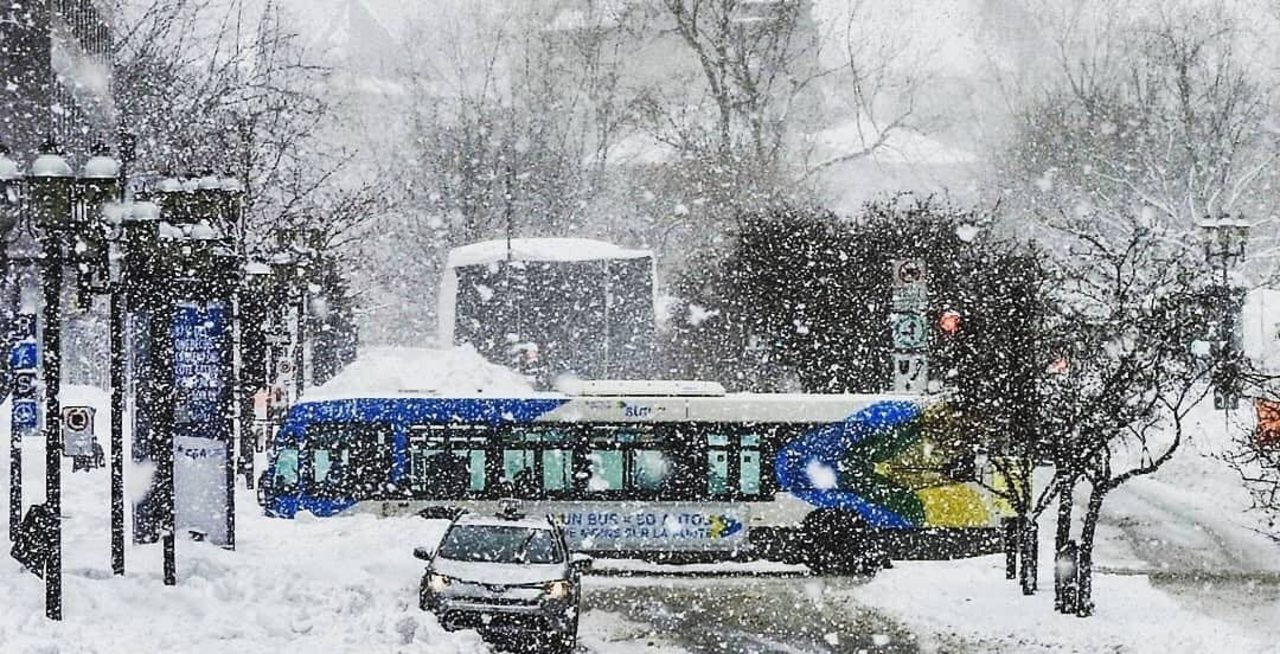bus: (260, 396, 1005, 563)
car: (417, 509, 587, 651)
